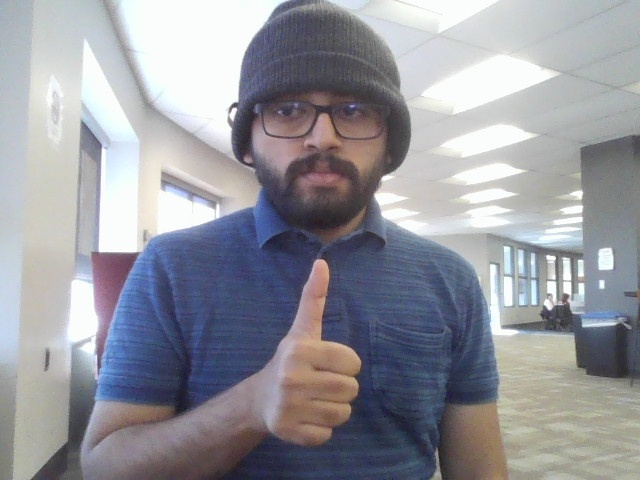start: (266, 255, 365, 470)
